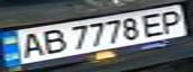7: (66, 22, 90, 51), (103, 17, 127, 44), (87, 20, 109, 47)
8: (121, 15, 145, 42)
A: (15, 29, 48, 60)
B: (36, 26, 69, 56)
E: (136, 10, 169, 38)
P: (157, 8, 190, 35)
